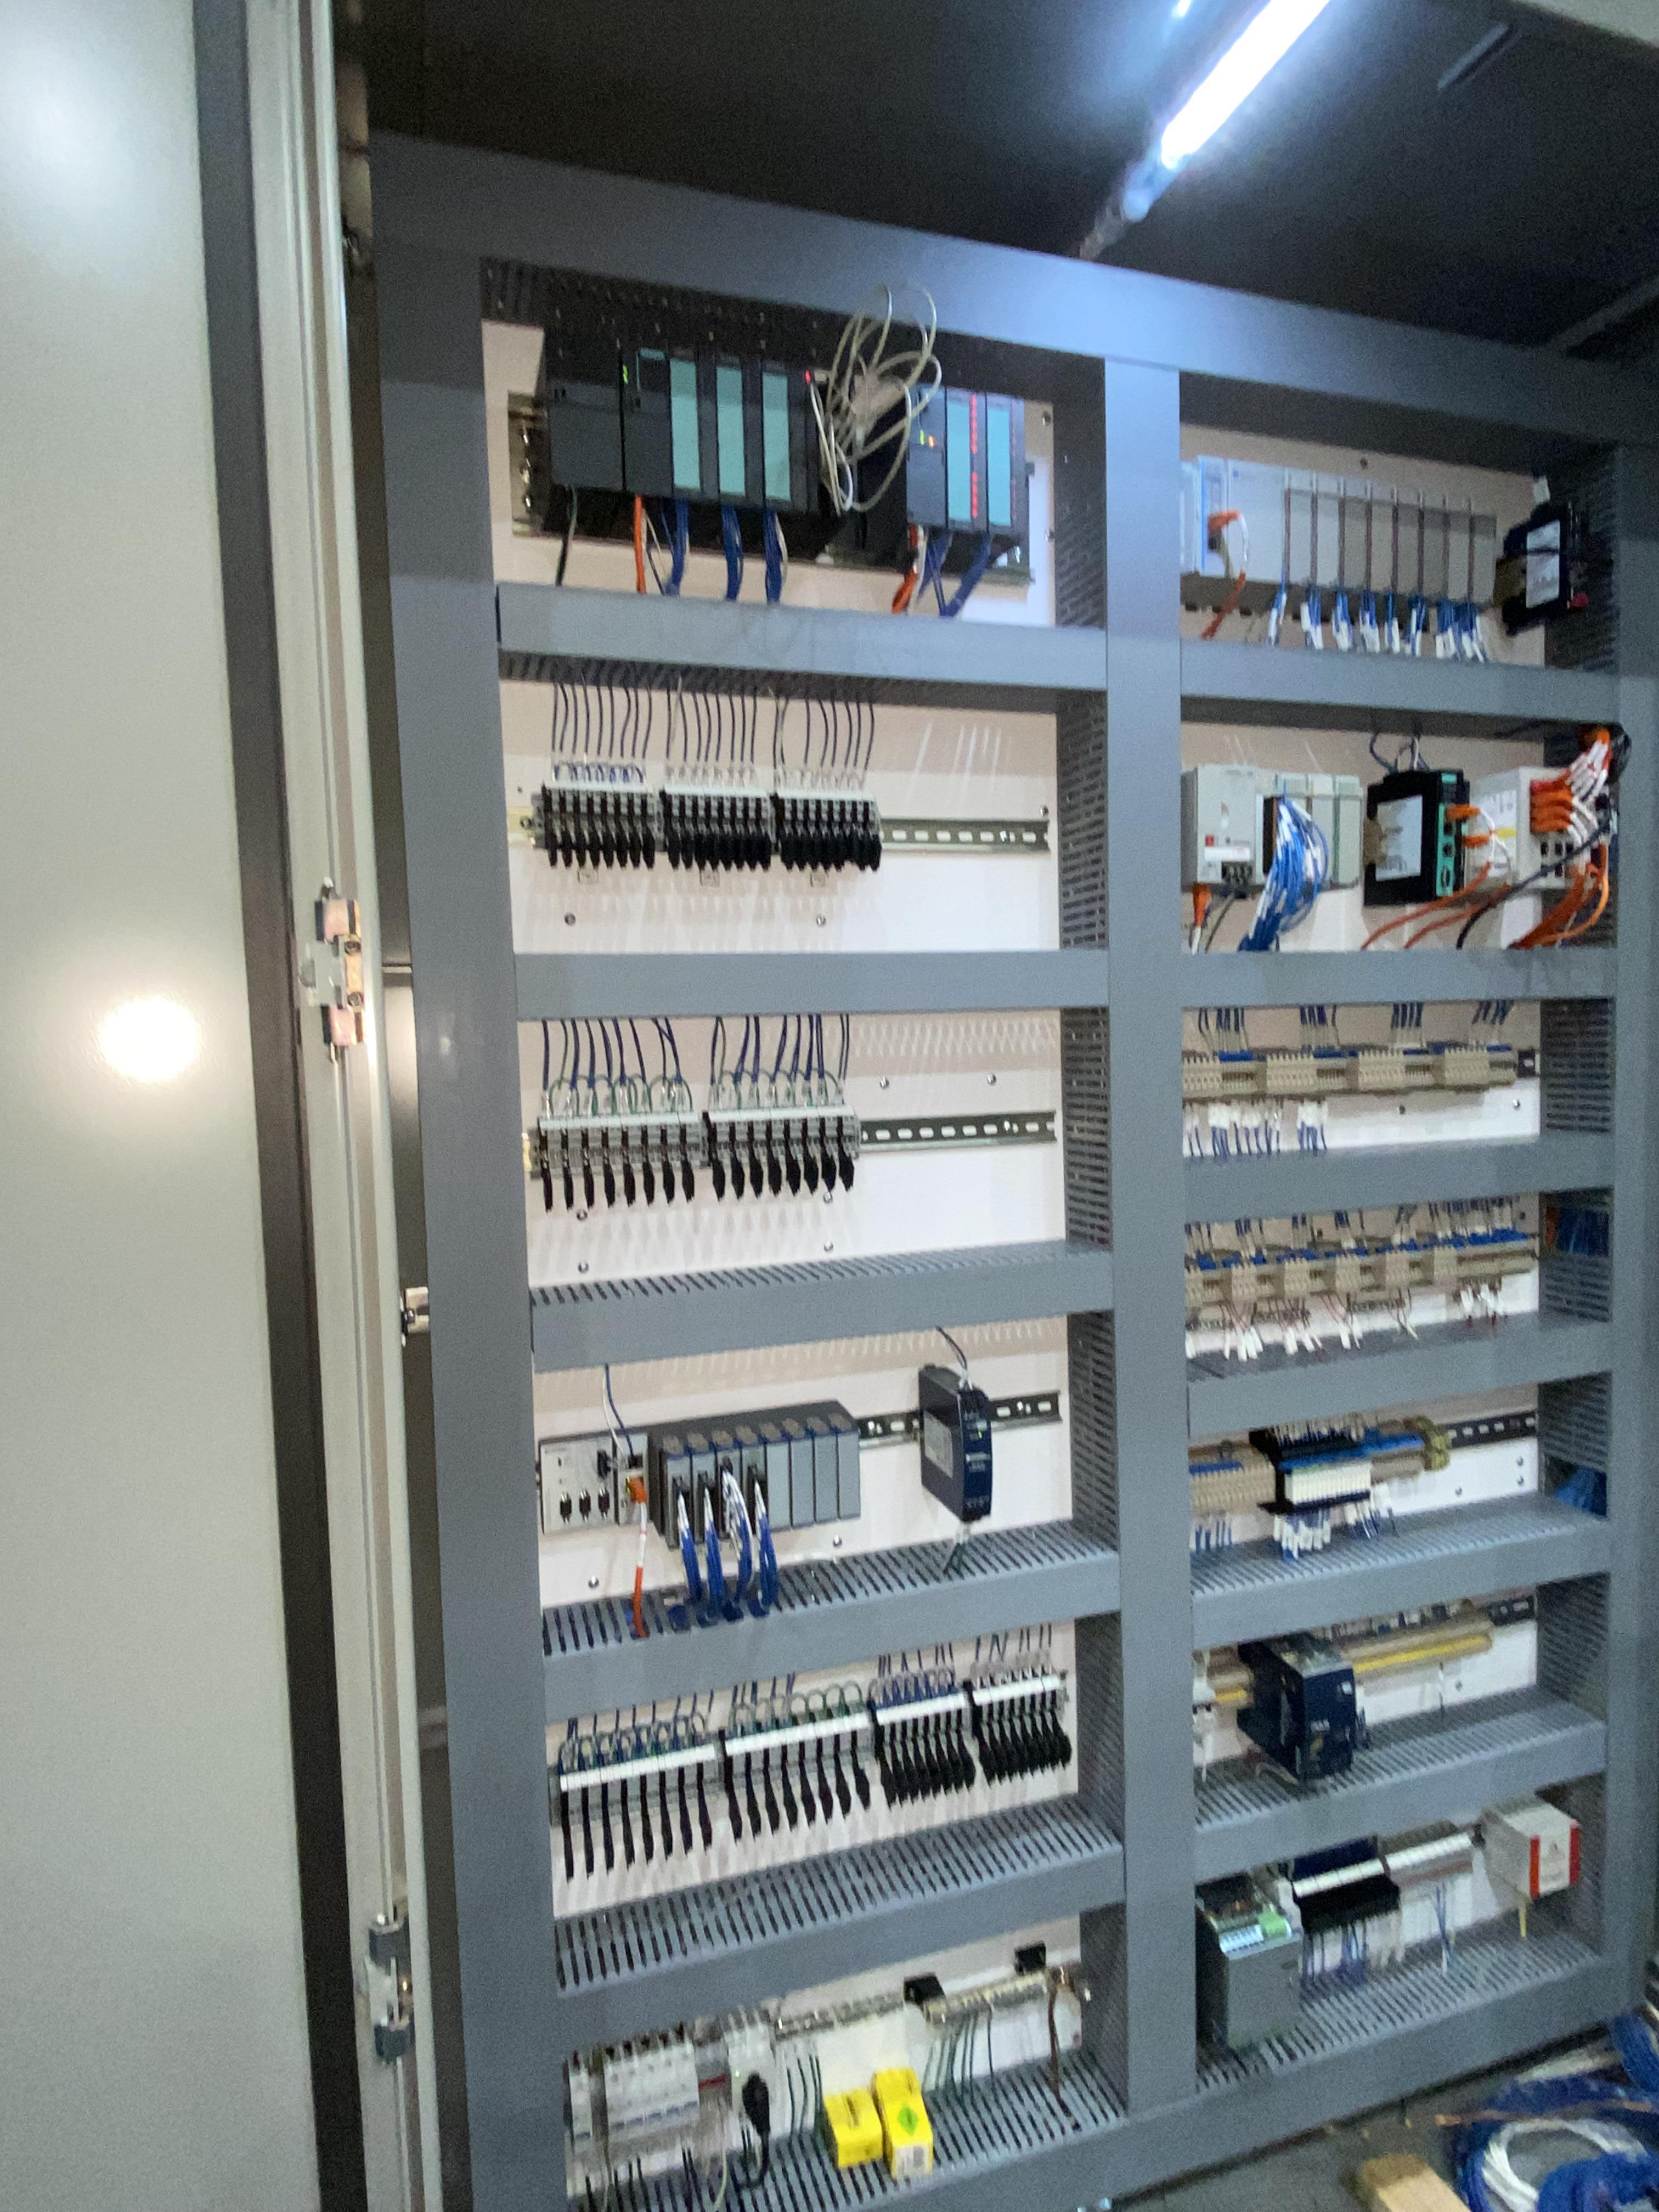AllenBradley: (1190, 761, 1260, 897)
Siemens: (615, 333, 676, 503)
